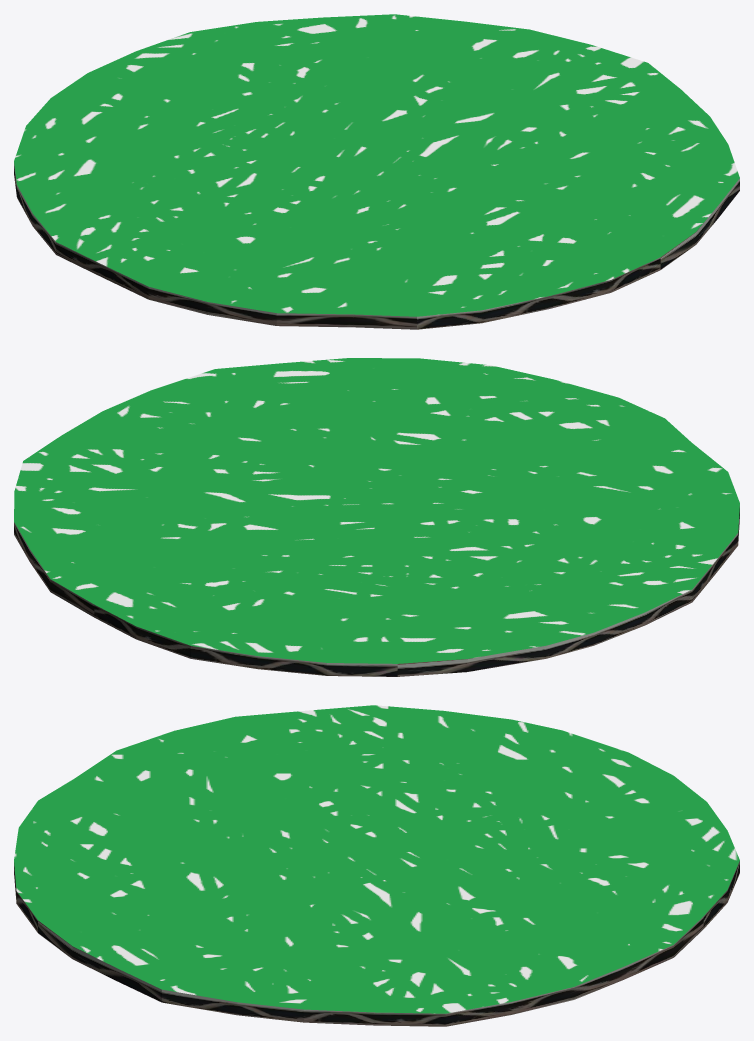
Rendered from grass.fbx.
3 views of the same model, one above another, from view 1: azimuth 30°, elevation 25°; view 2: azimuth 150°, elevation 25°; view 3: azimuth 270°, elevation 25° (orthographic).
Visible parts, largest first — view 1: grass; view 2: grass; view 3: grass.
Boxes of the visible parts, box(x1,y1,x2,y2) form: grass: box(14, 14, 739, 329); grass: box(14, 358, 739, 676); grass: box(14, 705, 739, 1026).
Size of the model in its own units: 1013 by 20 by 1008.
